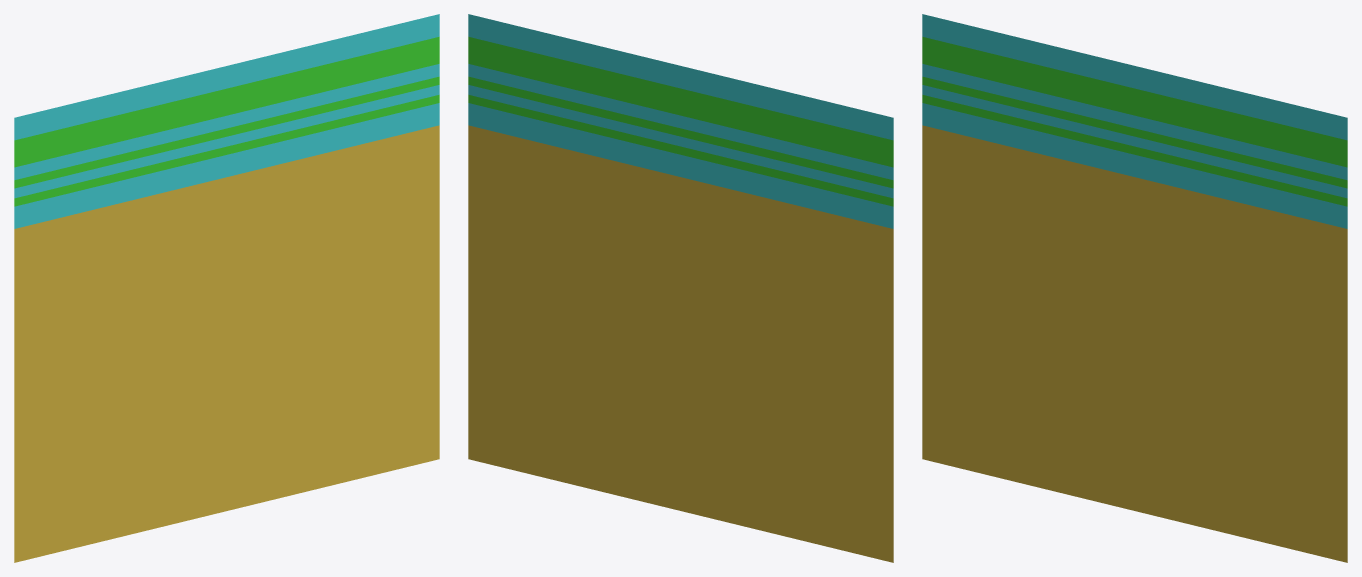
The model's file is Wall_38.fbx.
The picture shows the model from 3 angles, left to right: view 1: azimuth 30°, elevation 25°; view 2: azimuth 150°, elevation 25°; view 3: azimuth 330°, elevation 25°; orthographic projection.
Parts seen in each view (by area): view 1: Wall_38; view 2: Wall_38; view 3: Wall_38.
Boxes of the visible parts, x1,y1,x2,y2 form: Wall_38: (14, 14, 439, 562); Wall_38: (468, 14, 893, 562); Wall_38: (922, 14, 1347, 562).
Bounding box in the file's own units: 457 × 457 × 5.97e-08.
